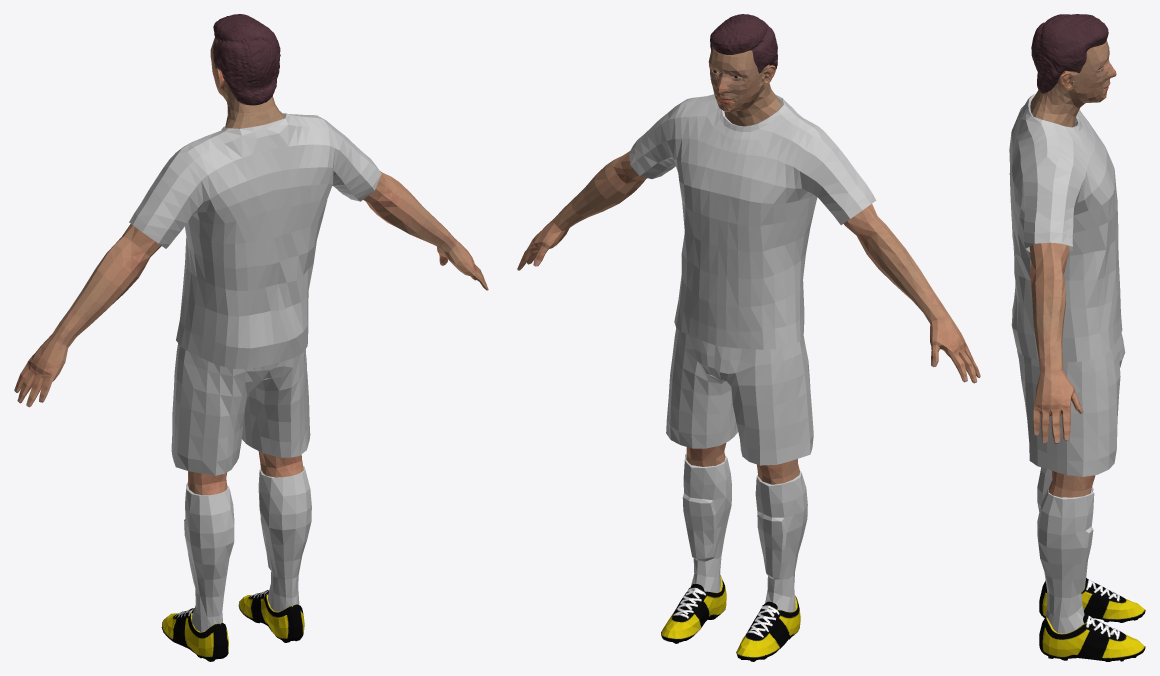
Rendered from short-untucked.obj.
3 renders of one model, left to right at view 1: azimuth 30°, elevation 25°; view 2: azimuth 150°, elevation 25°; view 3: azimuth 270°, elevation 25°, orthographic. The views are drawn at different scales.
Visible parts, largest first — view 1: short-untucked, untucked, base_socks, arms, hair_short_04.001, base_boots.001, base_head.002, base_knees; view 2: short-untucked, untucked, base_socks, arms, base_boots.001, base_head.002, hair_short_04.001, base_knees; view 3: short-untucked, untucked, base_socks, arms, base_boots.001, hair_short_04.001, base_head.002, base_knees.
Part boxes in pixels (x1,y1,x2,y2): short-untucked: (129, 113, 381, 368); untucked: (171, 343, 310, 475); base_socks: (184, 466, 311, 632); arms: (14, 171, 488, 407); hair_short_04.001: (213, 14, 280, 105); base_boots.001: (161, 590, 304, 661); base_head.002: (210, 37, 284, 128); base_knees: (187, 451, 303, 495); short-untucked: (629, 94, 876, 349); untucked: (666, 328, 813, 465); base_socks: (682, 453, 807, 611); arms: (517, 151, 980, 383); base_boots.001: (661, 575, 800, 661); base_head.002: (708, 45, 781, 126); hair_short_04.001: (710, 14, 777, 73); base_knees: (686, 443, 799, 484); short-untucked: (1009, 94, 1122, 361); untucked: (1017, 333, 1125, 476); base_socks: (1037, 467, 1094, 633); arms: (1029, 242, 1083, 443); base_boots.001: (1039, 578, 1145, 661); hair_short_04.001: (1031, 14, 1108, 93); base_head.002: (1030, 40, 1116, 127); base_knees: (1048, 470, 1095, 497).
Bounding box in the file's own units: 1.44 × 1.84 × 0.3669.
